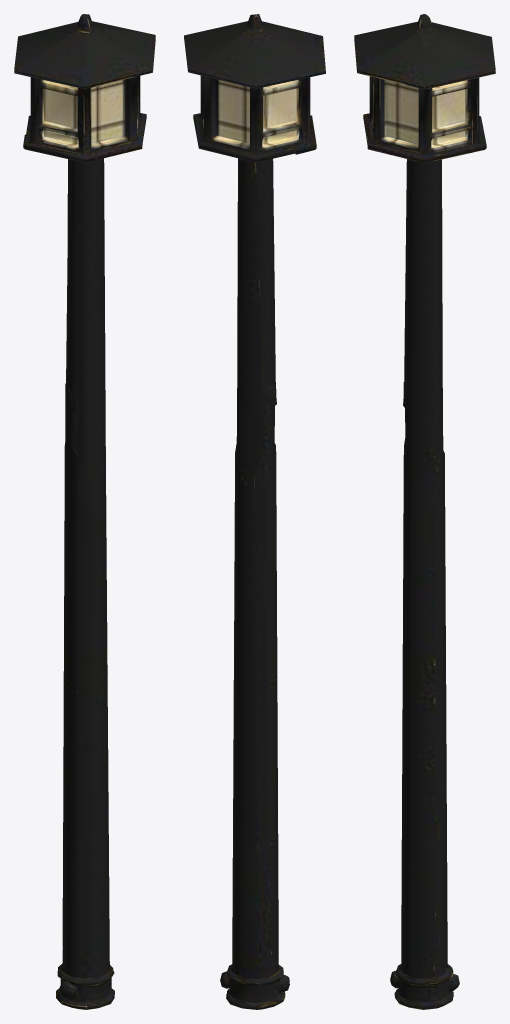
Rendered from path-lamp-victorian.glb.
The picture shows the model from 3 angles, left to right: view 1: azimuth 30°, elevation 25°; view 2: azimuth 150°, elevation 25°; view 3: azimuth 330°, elevation 25°; orthographic projection.
Visible parts, largest first — view 1: Path-lamp-victorianBody; view 2: Path-lamp-victorianBody; view 3: Path-lamp-victorianBody.
Part boxes in pixels (bbox=[...]): Path-lamp-victorianBody: bbox=[14, 14, 155, 1009]; Path-lamp-victorianBody: bbox=[184, 14, 325, 1009]; Path-lamp-victorianBody: bbox=[354, 14, 495, 1009].
Bounding box in the file's own units: 0.6705 × 4.45 × 0.5486.
Materials: 1 (1 with a texture image).
